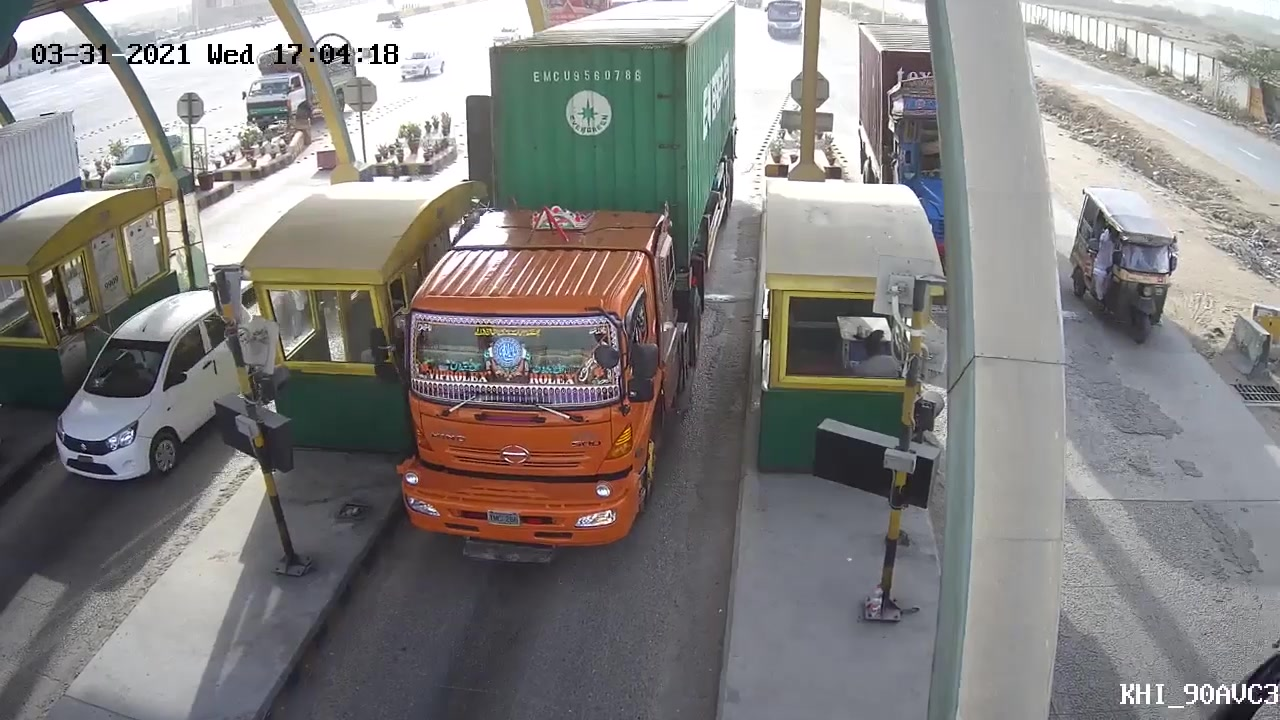F6: (369, 1, 748, 552)
